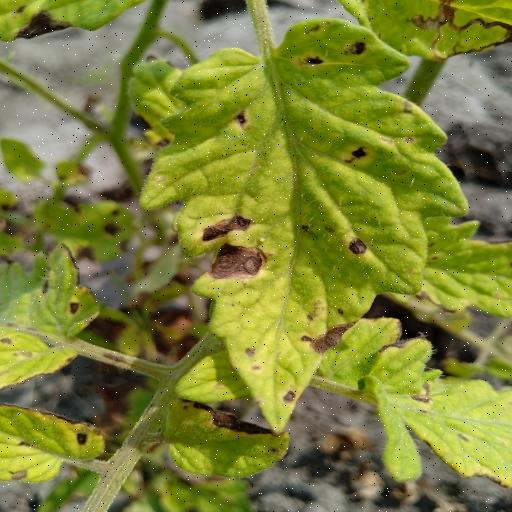Tomato_Brown_Spots: (135, 14, 476, 436)
